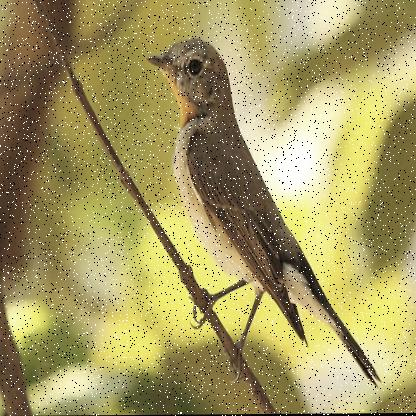Burung: (144, 41, 391, 391)
